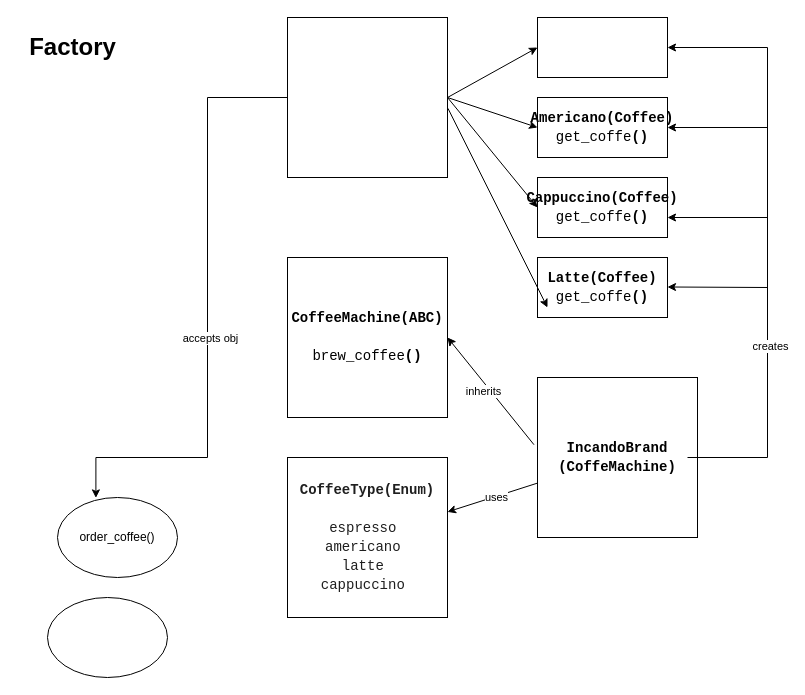
Some shapes in this 805 by 695 pixel diagram are drawn without their labels. Here are the shapes that lost their labels. From the top down, the centre of each, then its label:
At (x=602, y=47): "Espresso(Coffee) get_coffe ()".
At (x=367, y=97): "Coffee(ABC) get_coffe ()".
At (x=107, y=637): "input_order()".
